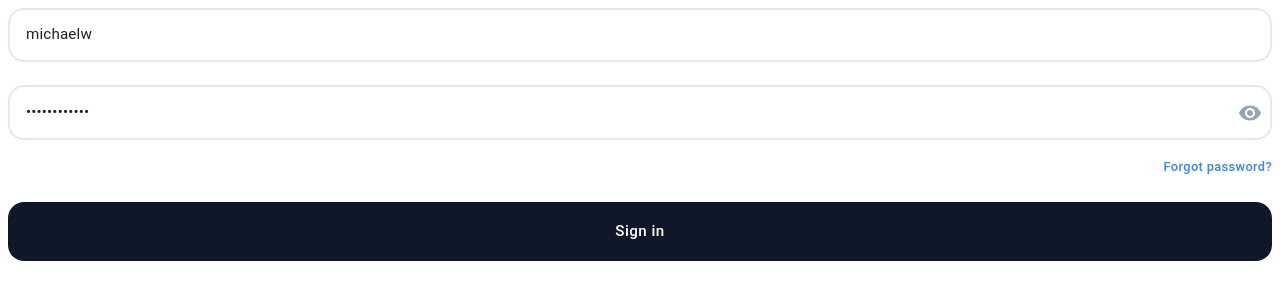
Test: LoginForm › validates password minimum length
Type "pass" into the password field with placeholder "Password" at [615, 113], box [8,86,1222,140]
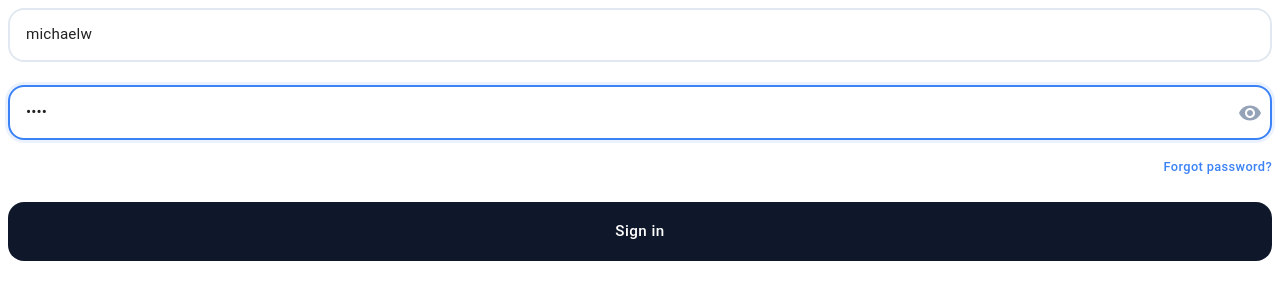
Click the button "Sign in" at [640, 231], box [8,202,1272,261]
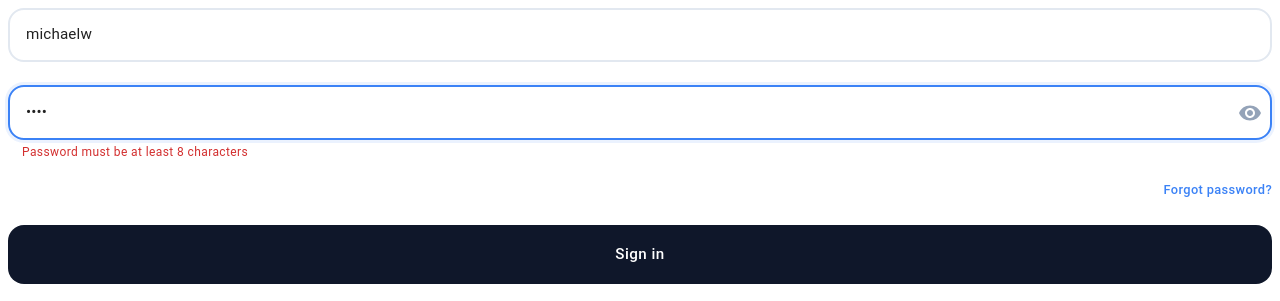
Now the text "Password must be at least 8 characters" is shown, box [22,145,248,159]
